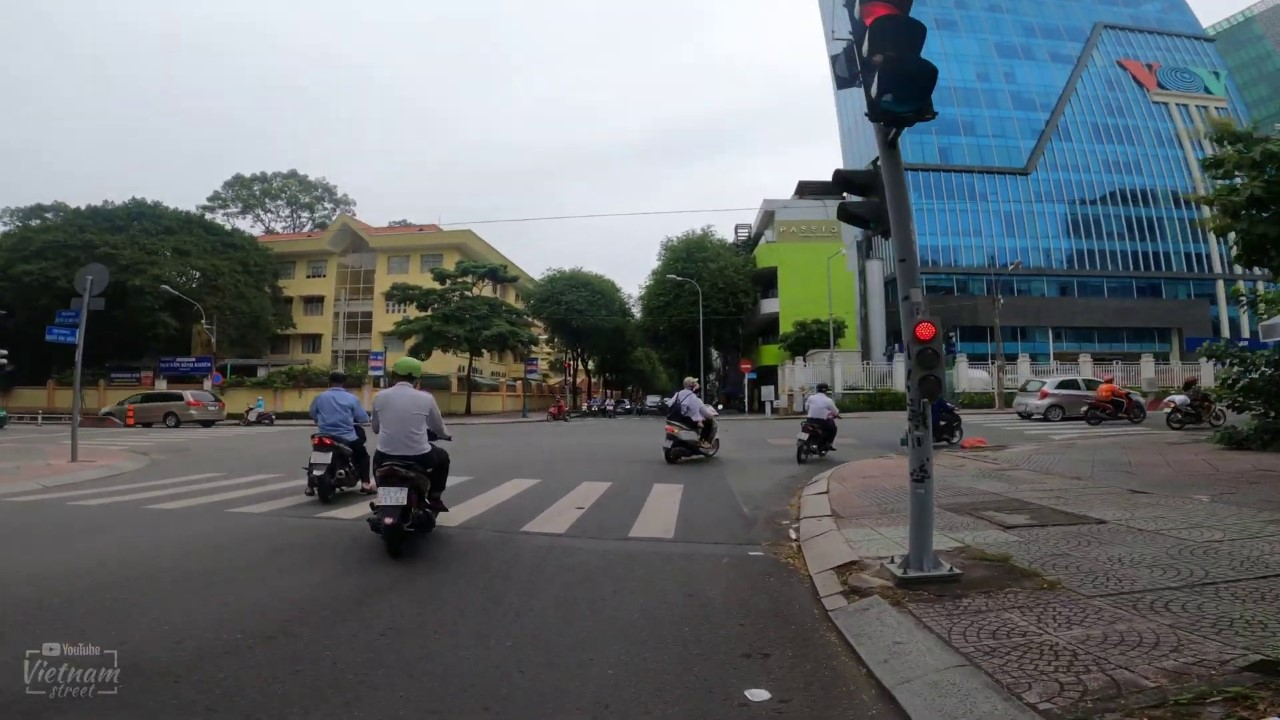cam_nguoc_chieu: (739, 359, 752, 374)
